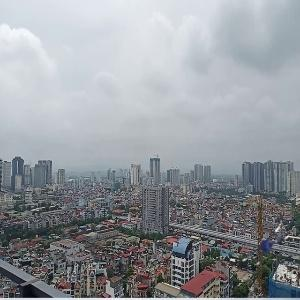drone: (236, 213, 293, 270)
